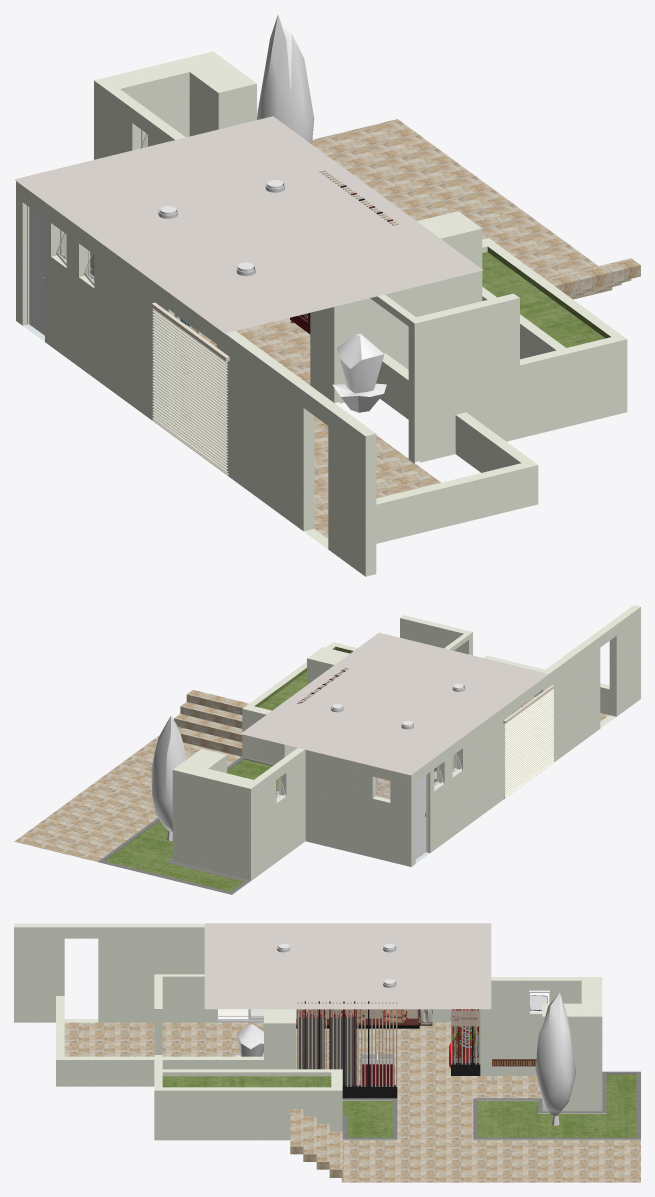
File: mio-terracos.glb
3 renders of one model, top to bottom at view 1: azimuth 30°, elevation 25°; view 2: azimuth 150°, elevation 25°; view 3: azimuth 270°, elevation 25°, orthographic. The views are drawn at different scales.
Parts seen in each view (by area): view 1: paredes, teto, jardim, piso; view 2: paredes, teto, jardim; view 3: paredes, teto, jardim, piso, divisoria_ripada_1, armario_mio, divisoria_ripada_2, geladeira_mio_2, geladeira_mio_3, freezer_loslos, geladeira_coca, banco.
Part boxes in pixels (x1,y1,x2,y2): paredes: (16,14,640,576); teto: (14,116,483,333); jardim: (132,119,597,278); piso: (181,318,440,538); paredes: (151,605,640,880); teto: (241,632,548,775); jardim: (14,736,286,894); paredes: (14,923,602,1177); teto: (204,923,491,1009); jardim: (341,995,640,1182); piso: (64,1022,541,1140); divisoria_ripada_1: (297,1001,397,1098); armario_mio: (296,1009,432,1028); divisoria_ripada_2: (451,1009,480,1075); geladeira_mio_2: (330,1009,356,1085); geladeira_mio_3: (297,1009,324,1069); freezer_loslos: (360,1054,394,1085); geladeira_coca: (449,1009,478,1067); banco: (492,1059,536,1083).
Size of the model in its own units: 9.27 by 3.42 by 14.88.
Materials: 221 (178 with a texture image).
